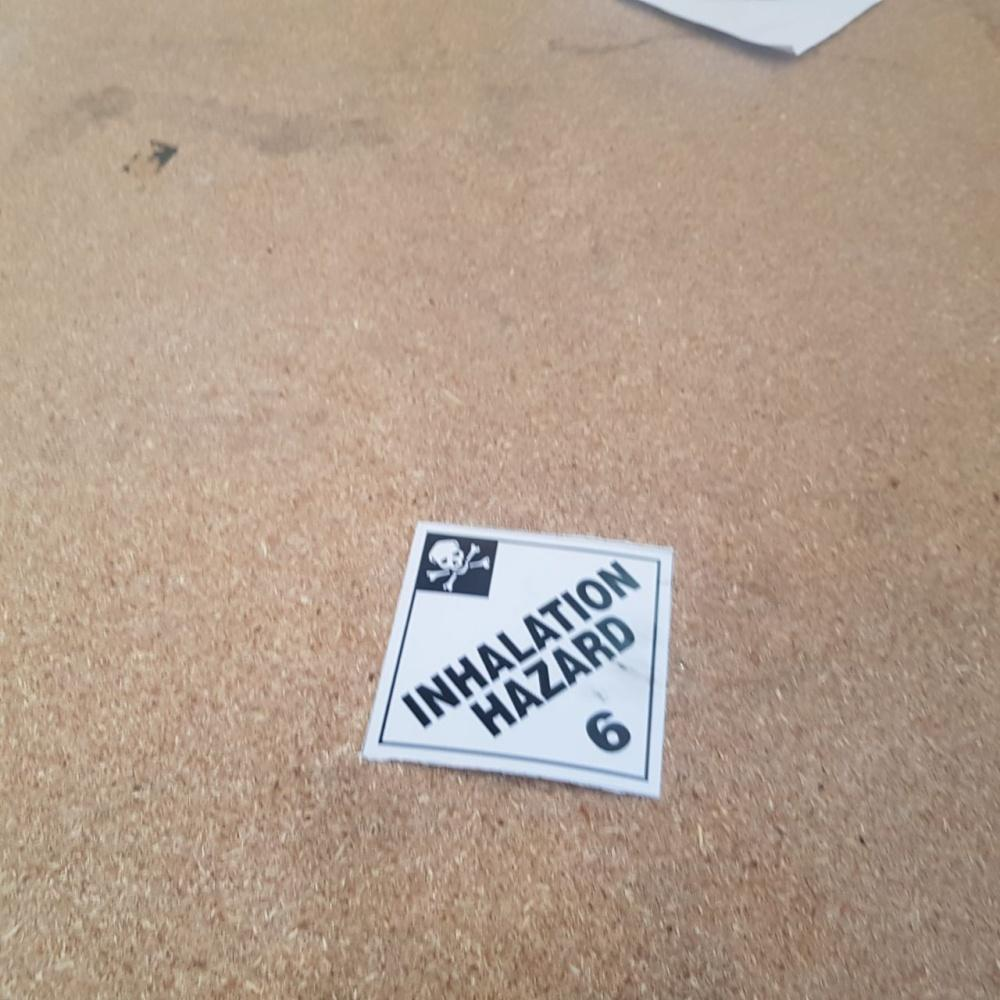poison: (365, 529, 673, 792)
